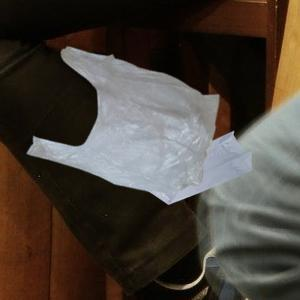plastic_bag: (23, 44, 223, 207)
